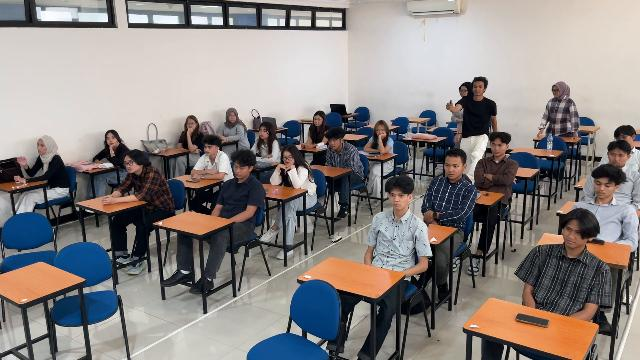fokus: (563, 220, 584, 247), (389, 190, 408, 210), (595, 178, 612, 198), (444, 157, 460, 178), (609, 150, 625, 166), (124, 157, 138, 173), (491, 140, 504, 156), (233, 162, 246, 178), (616, 134, 632, 144), (283, 152, 294, 166), (204, 144, 215, 156), (328, 137, 339, 149), (37, 139, 45, 154), (259, 126, 268, 139), (107, 134, 117, 145), (377, 125, 385, 138), (313, 115, 322, 126), (187, 119, 195, 129), (229, 112, 237, 122)
